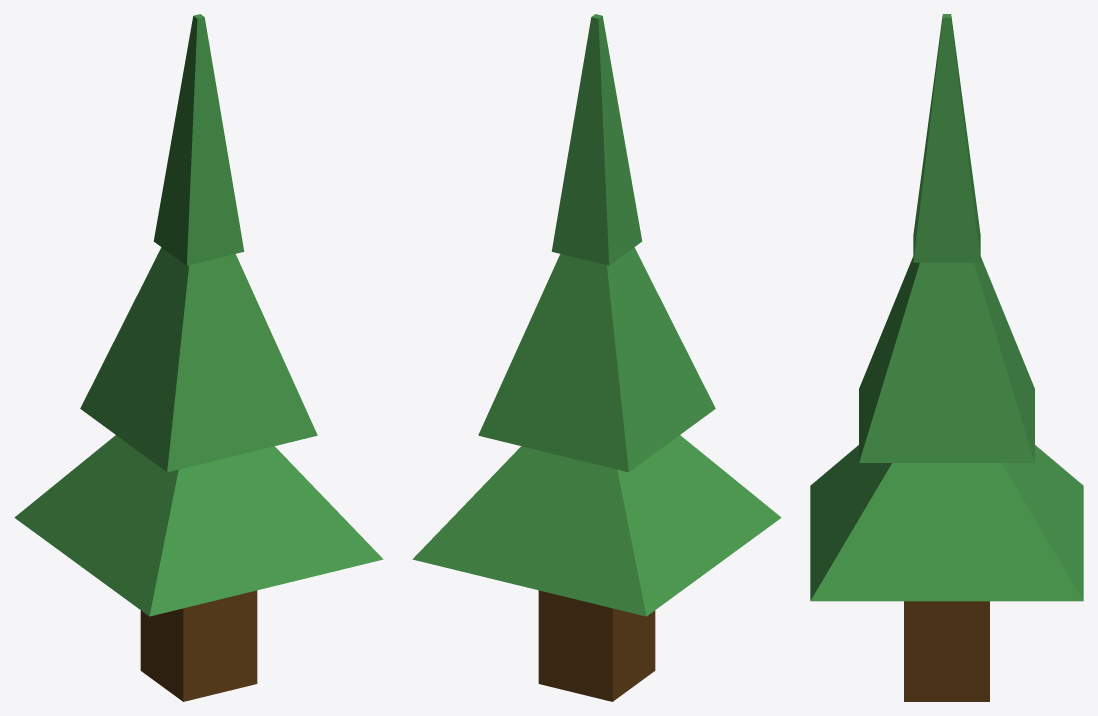
3 renders of one model, left to right at view 1: azimuth 30°, elevation 25°; view 2: azimuth 150°, elevation 25°; view 3: azimuth 270°, elevation 25°, orthographic.
Parts seen in each view (by area): view 1: Cube.007; view 2: Cube.007; view 3: Cube.007.
Boxes of the visible parts, x1=… form: Cube.007: x1=14, y1=14, x2=383, y2=701; Cube.007: x1=412, y1=14, x2=781, y2=701; Cube.007: x1=810, y1=14, x2=1083, y2=701.
Bounding box in the file's own units: 1.97 × 5.32 × 1.97.
